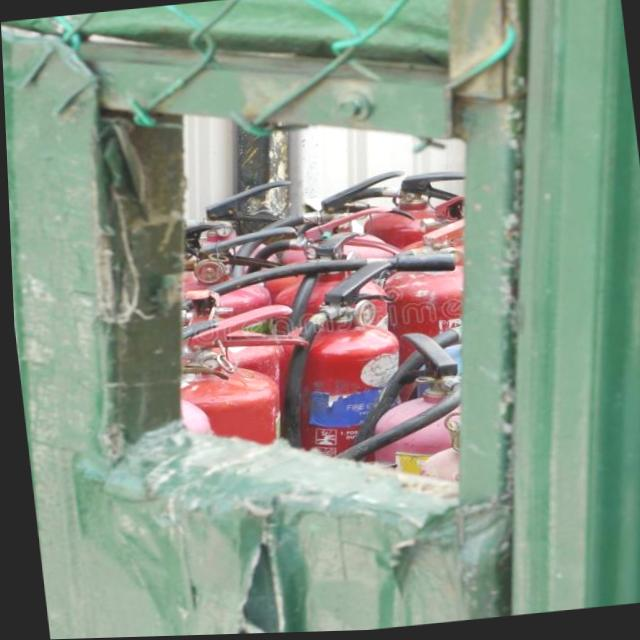FireExtinguisher: (109, 301, 332, 638), (141, 222, 326, 529), (271, 258, 434, 602), (351, 323, 497, 629), (356, 212, 509, 464)
